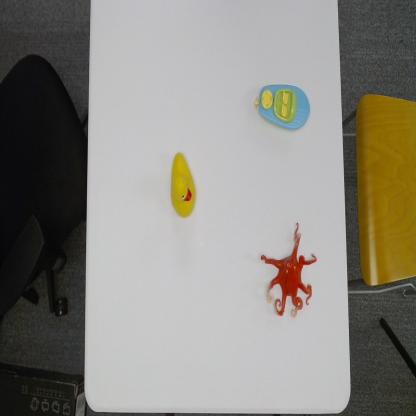Boat: (252, 81, 312, 132)
Duck: (170, 150, 197, 219)
Octopus: (260, 221, 318, 320)
